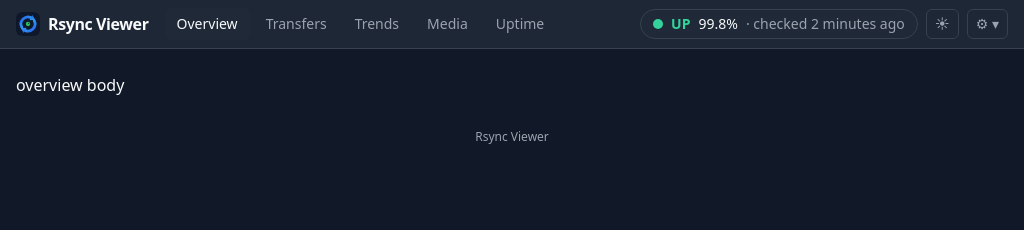
Test case: Shell (AC-001, AC-023) › keeps settings behind a secondary menu linking to server-rendered pages
This screenshot has width=1024, height=230.
Click the button named "Settings menu" at x=987, y=24, box [967,9,1008,39]
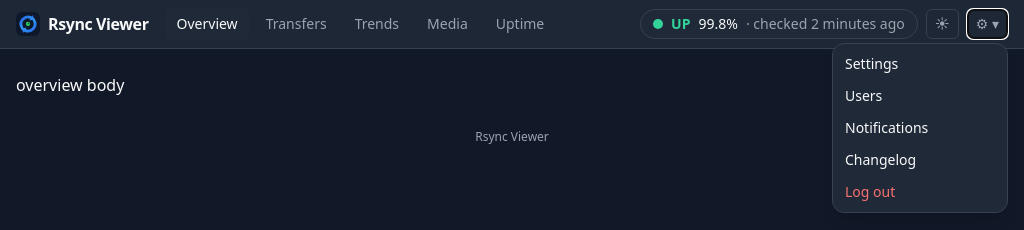
Now the menu item "Log out" is shown, box [833,176,1007,208]
